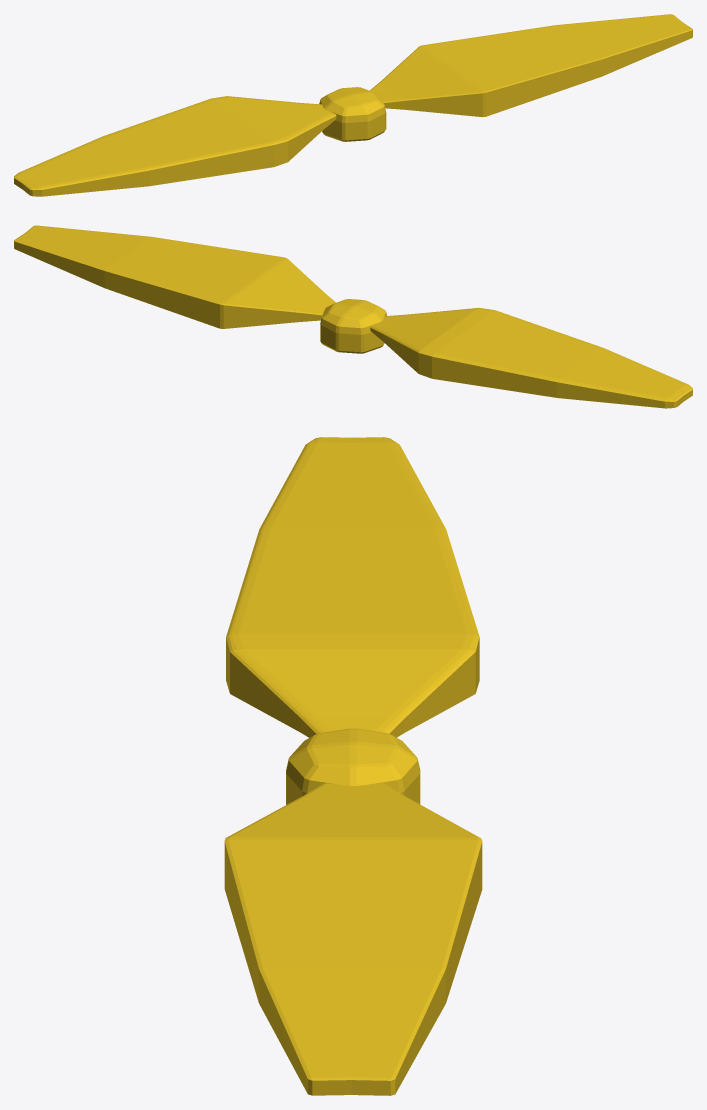
Rendered from Baling 1 .fbx.
3 renders of one model, top to bottom at view 1: azimuth 30°, elevation 25°; view 2: azimuth 150°, elevation 25°; view 3: azimuth 270°, elevation 25°, orthographic. The views are drawn at different scales.
Visible parts, largest first — view 1: Cube.004; view 2: Cube.004; view 3: Cube.004.
Part boxes in pixels (x1,y1,x2,y2): Cube.004: (14,14,692,196); Cube.004: (14,225,692,408); Cube.004: (224,437,482,1095).
Bounding box in the file's own units: 136 × 7.36 × 22.98.
